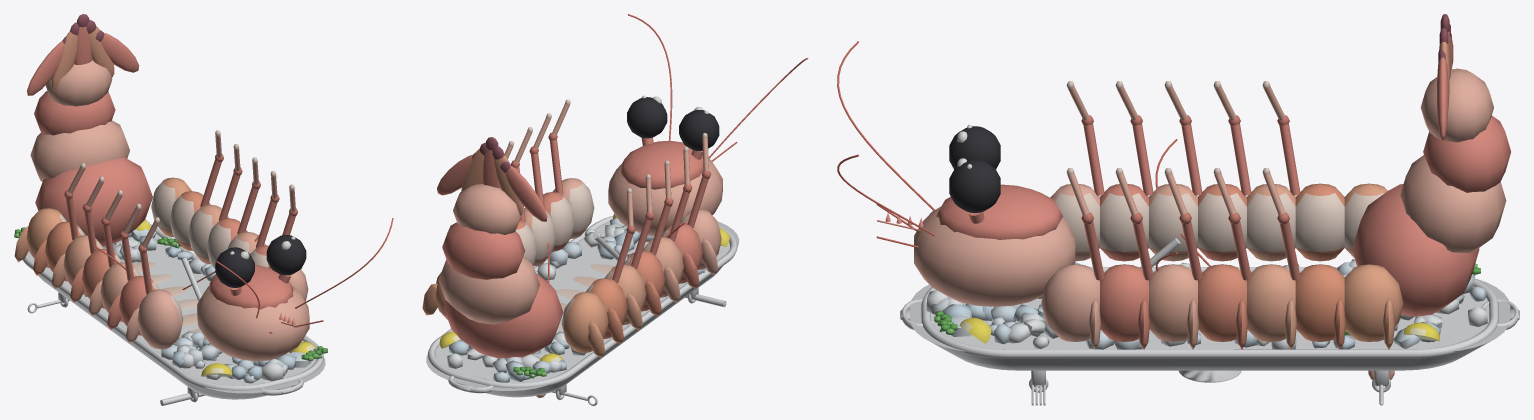
The model's file is prawn.glb.
The picture shows the model from 3 angles, left to right: view 1: azimuth 30°, elevation 25°; view 2: azimuth 150°, elevation 25°; view 3: azimuth 270°, elevation 25°; orthographic projection. The views are drawn at different scales.
Visible parts, largest first — view 1: prawn, prawn_wreck; view 2: prawn, prawn_wreck; view 3: prawn, prawn_wreck.
Part boxes in pixels (bbox=[...]): prawn: bbox=[15, 14, 393, 404]; prawn_wreck: bbox=[14, 187, 327, 405]; prawn: bbox=[422, 14, 808, 405]; prawn_wreck: bbox=[423, 141, 739, 404]; prawn: bbox=[837, 14, 1519, 405]; prawn_wreck: bbox=[876, 184, 1519, 405].
Size of the model in its own units: 1.12 by 1.6 by 2.79.
